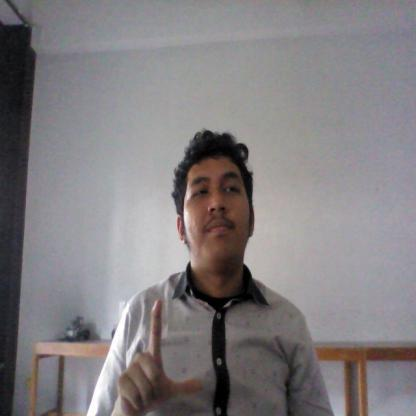L: (102, 285, 206, 416)
